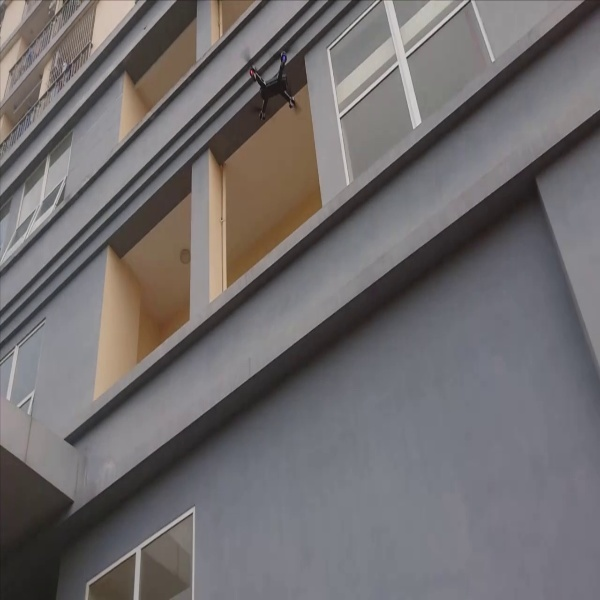drone: (236, 38, 308, 122)
